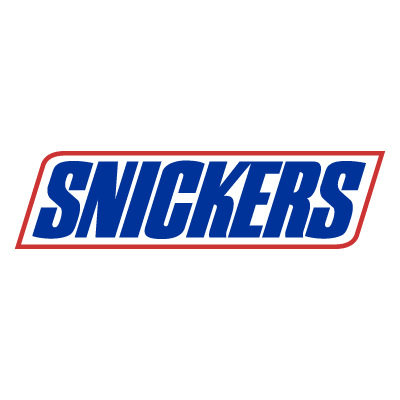snickers: (29, 160, 366, 241)
